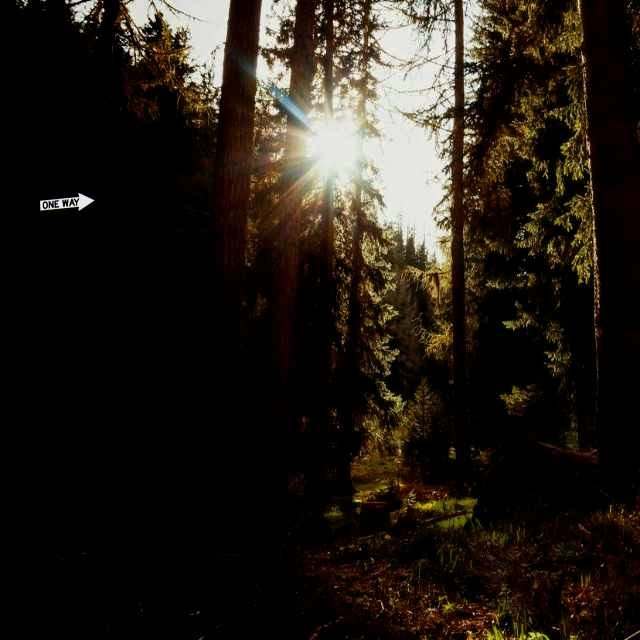ONE_WAY_ right: (36, 190, 99, 216)
